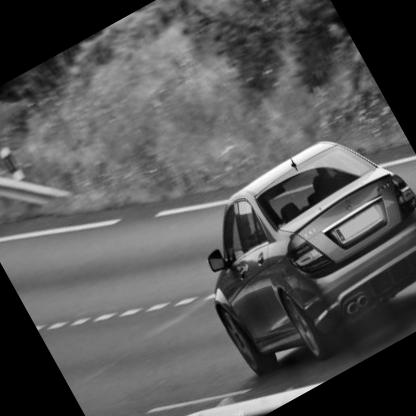car: (142, 80, 416, 416)
